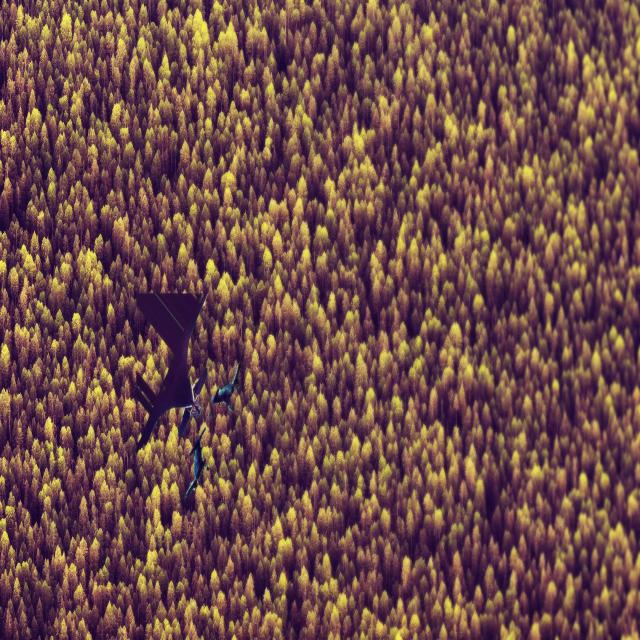airplane: (133, 288, 208, 452), (207, 361, 240, 418), (184, 426, 209, 499)
